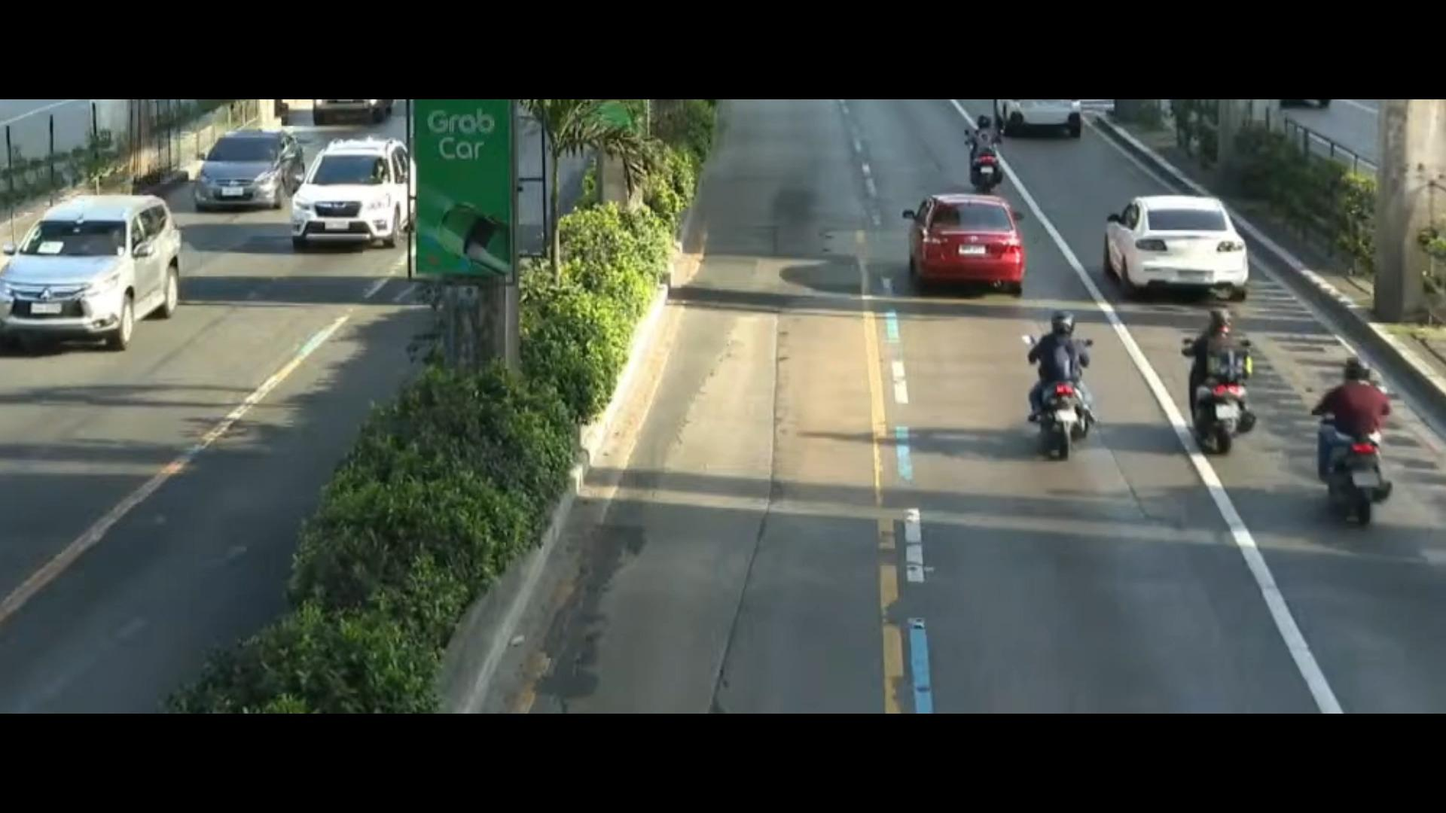Motorcycle: (968, 277, 1121, 461), (1318, 345, 1391, 514), (1187, 303, 1256, 464), (939, 108, 1028, 173)
SUV: (0, 187, 202, 348), (277, 138, 418, 246)
Sedan: (872, 179, 1042, 315), (1097, 179, 1256, 303), (182, 126, 300, 221)
